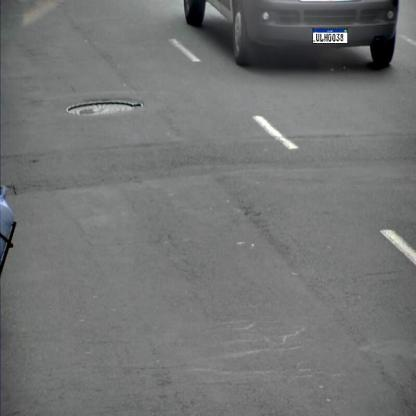PlacaM: (312, 28, 348, 44)
